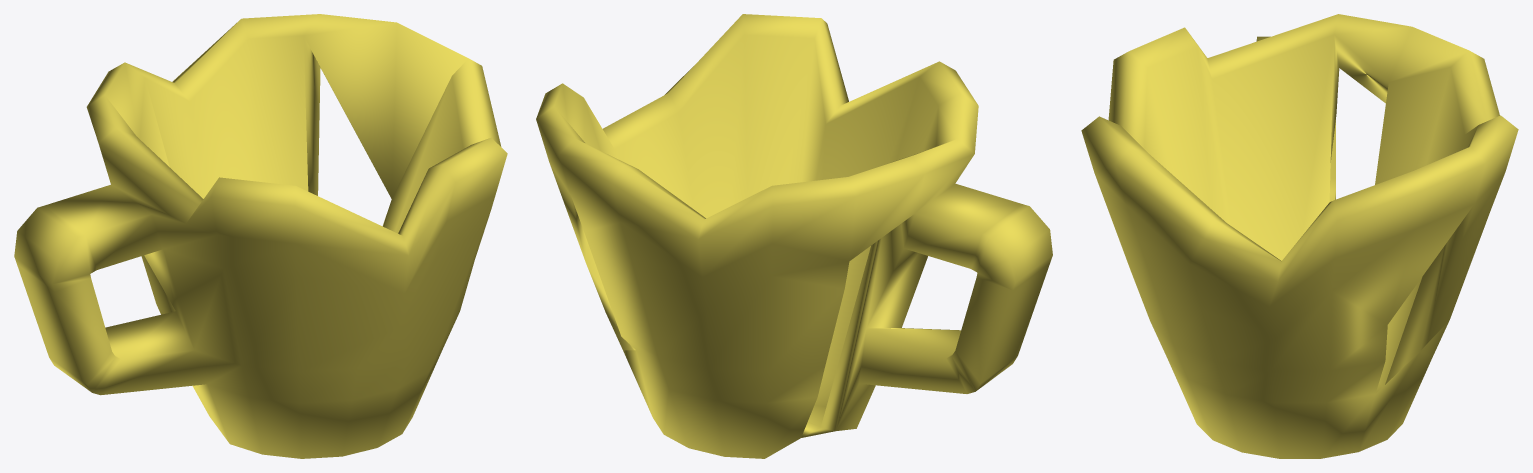
Rendered from CanecaQuebrad.fbx.
3 renders of one model, left to right at view 1: azimuth 30°, elevation 25°; view 2: azimuth 150°, elevation 25°; view 3: azimuth 270°, elevation 25°, orthographic.
Visible parts, largest first — view 1: 3; view 2: 3; view 3: 3.
Boxes of the visible parts, x1,y1,x2,y2 form: 3: (14, 14, 507, 458); 3: (536, 14, 1052, 458); 3: (1081, 14, 1518, 458).
Bounding box in the file's own units: 3.08 × 2.47 × 1.97.
